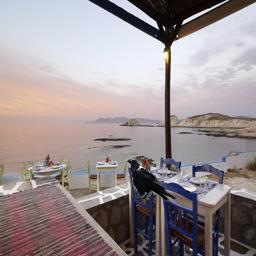Crow: (127, 157, 177, 202)
